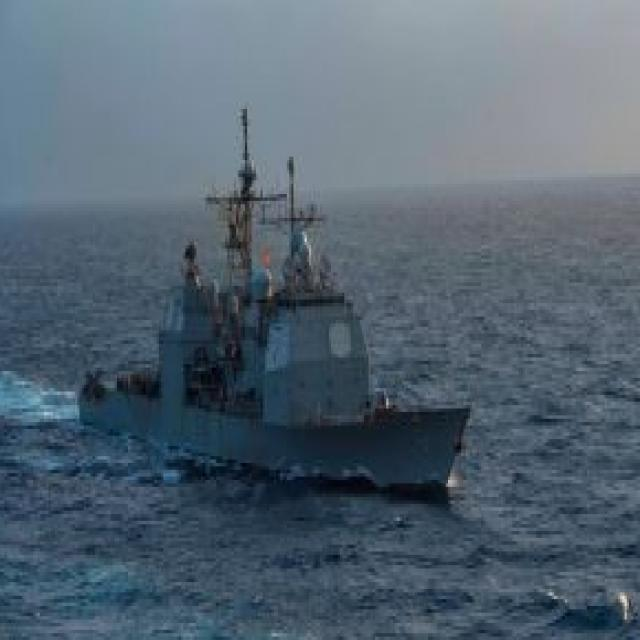navalvessels: (71, 134, 482, 516)
